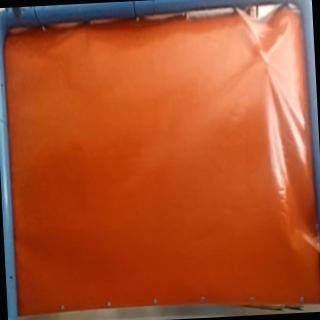Hit-hRxx: (260, 52, 276, 68)
